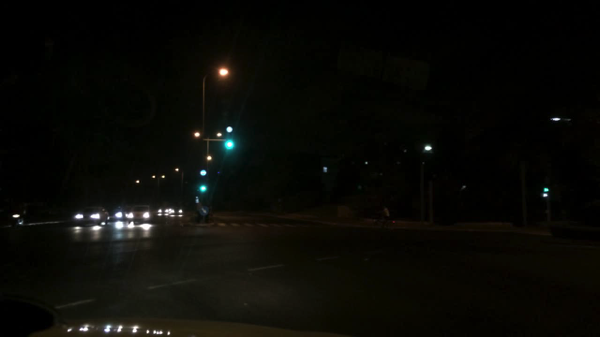bike: (369, 213, 401, 234)
car: (70, 206, 110, 226), (125, 204, 154, 224), (155, 204, 176, 219), (116, 206, 132, 220), (172, 206, 187, 215)
rider: (376, 201, 391, 232)
traffic light: (539, 186, 550, 205), (225, 139, 235, 151), (198, 184, 208, 193)
traffic sign: (199, 206, 209, 216), (200, 170, 207, 177), (194, 196, 199, 205)
